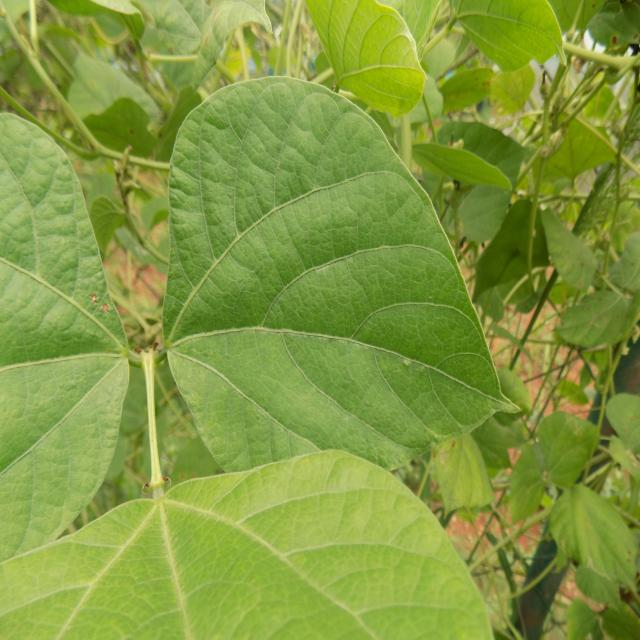Dolicos bean_healthy: (164, 71, 529, 486)
